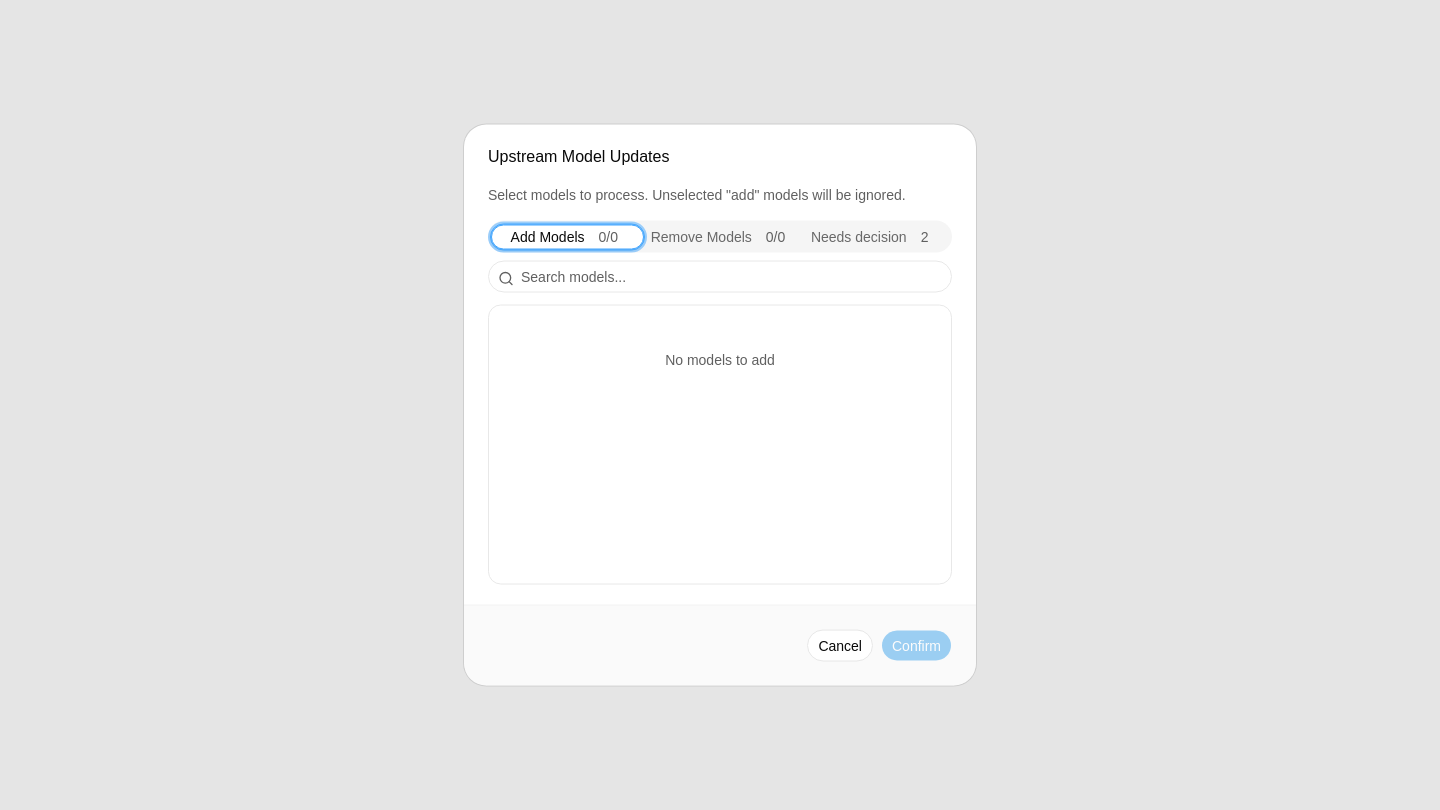
upstream update dialog needs-decision section › lists conflicting models read-only and keeps confirm disabled when nothing is pending
This screenshot has width=1440, height=810.
Click the tab "Needs decision 2" at (873, 236), box 796,224 -> 949,249
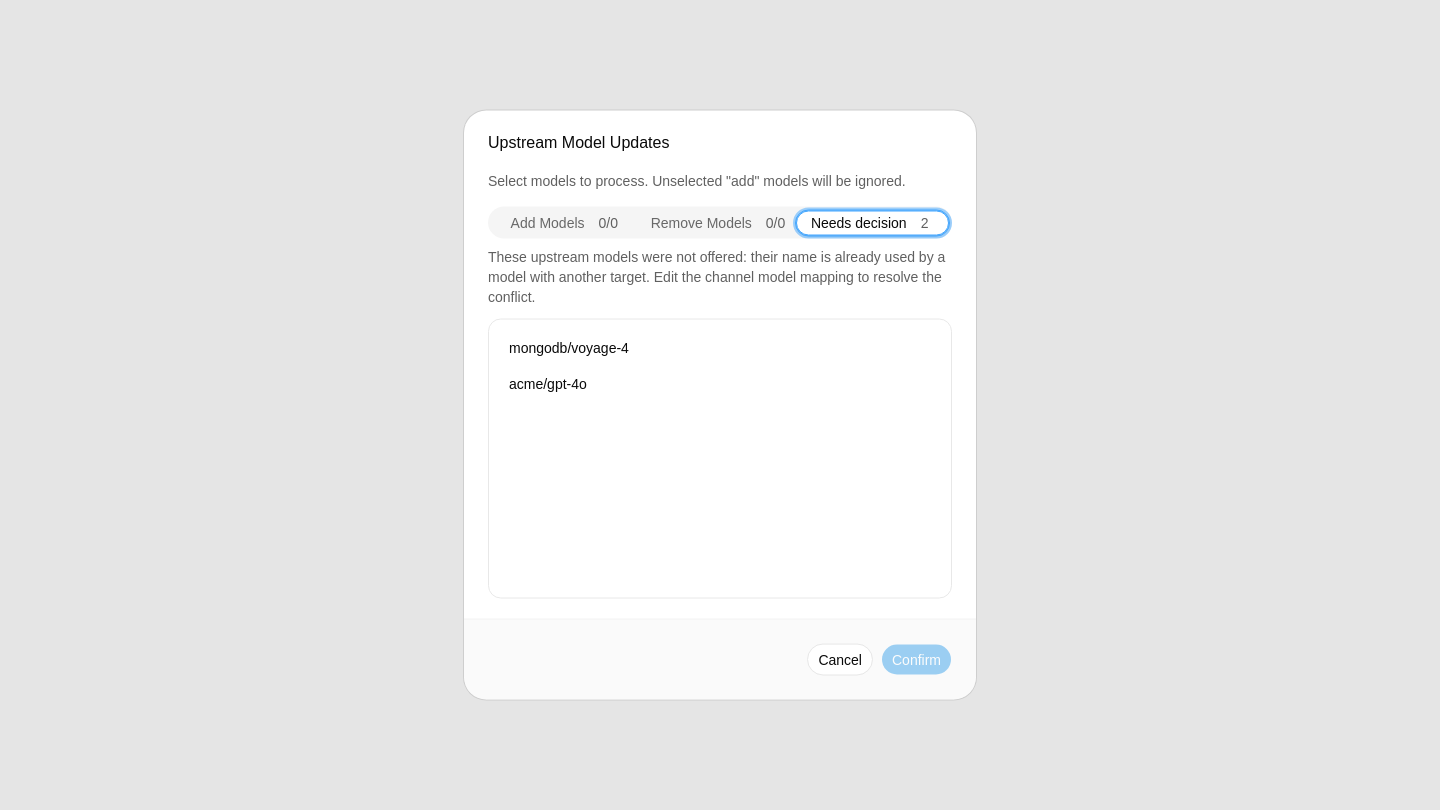
Expected: the button "Confirm" is disabled, 881,644 -> 952,676
Result: the list shows "mongodb/voyage-4" at 509,340 -> 629,356
Result: the list shows "acme/gpt-4o" at 509,376 -> 587,392
